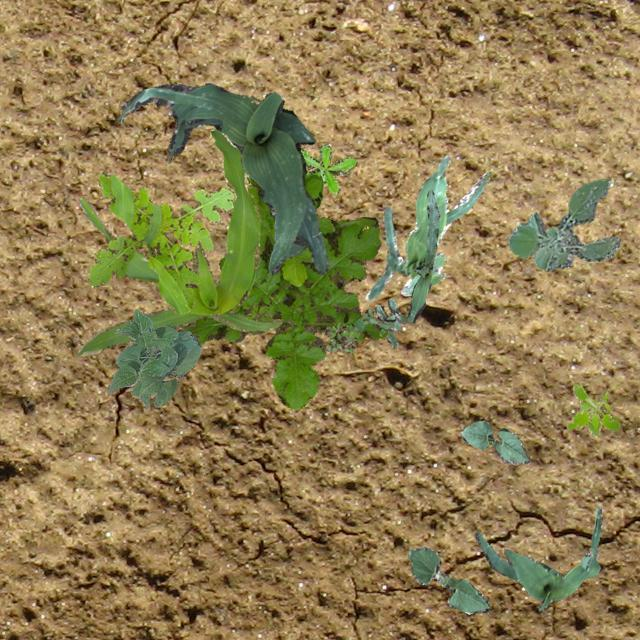crop: (74, 128, 280, 354), (116, 82, 328, 274), (365, 153, 489, 300), (474, 506, 602, 610), (106, 308, 200, 406), (406, 546, 488, 614), (406, 188, 438, 322), (459, 419, 528, 464)
weed: (178, 174, 386, 408), (86, 172, 235, 314), (508, 178, 620, 270), (566, 382, 618, 437), (323, 308, 388, 352), (300, 144, 356, 192), (373, 298, 408, 347), (242, 302, 272, 322)
